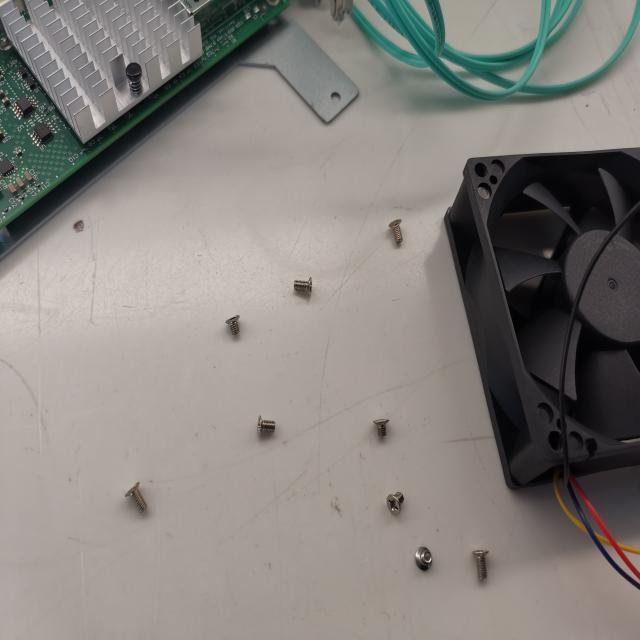Screw: (122, 478, 150, 517), (470, 546, 490, 585), (386, 216, 407, 248), (384, 488, 405, 518), (255, 412, 278, 439), (414, 544, 434, 574), (224, 312, 245, 339), (291, 276, 315, 298), (371, 416, 391, 440)
